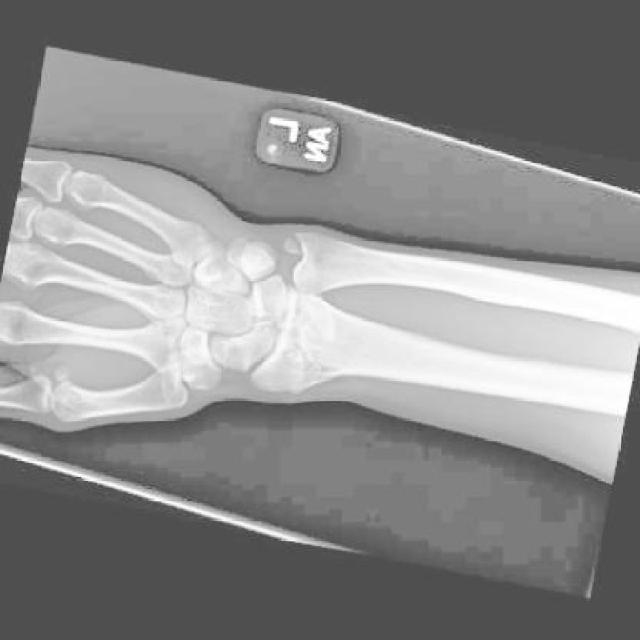Fracture: (275, 285, 354, 394), (288, 220, 313, 249)
